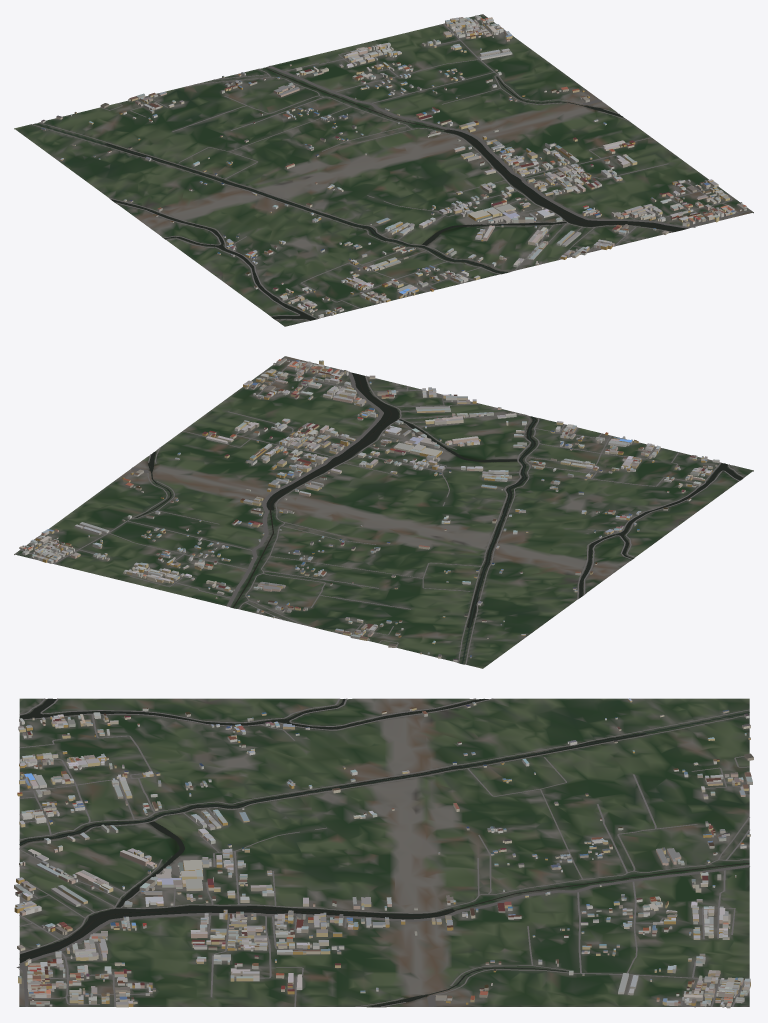
The picture shows the model from 3 angles, top to bottom: view 1: azimuth 30°, elevation 25°; view 2: azimuth 150°, elevation 25°; view 3: azimuth 270°, elevation 25°; orthographic projection. The views are drawn at different scales.
Parts seen in each view (by area): view 1: ground, buildings, roads, water; view 2: ground, buildings, roads, water; view 3: ground, buildings, roads, water.
Boxes of the visible parts, bbox=[...] form: ground: bbox=[14, 14, 753, 326]; buildings: bbox=[41, 15, 746, 318]; roads: bbox=[31, 19, 751, 320]; water: bbox=[34, 67, 686, 320]; ground: bbox=[14, 356, 753, 668]; buildings: bbox=[19, 358, 719, 661]; roads: bbox=[20, 357, 744, 664]; water: bbox=[136, 372, 742, 663]; ground: bbox=[19, 698, 749, 1007]; buildings: bbox=[14, 698, 753, 1008]; roads: bbox=[16, 698, 749, 1007]; water: bbox=[19, 698, 749, 1007].
Bounding box in the file's own units: 1407 × 16.24 × 1420.
